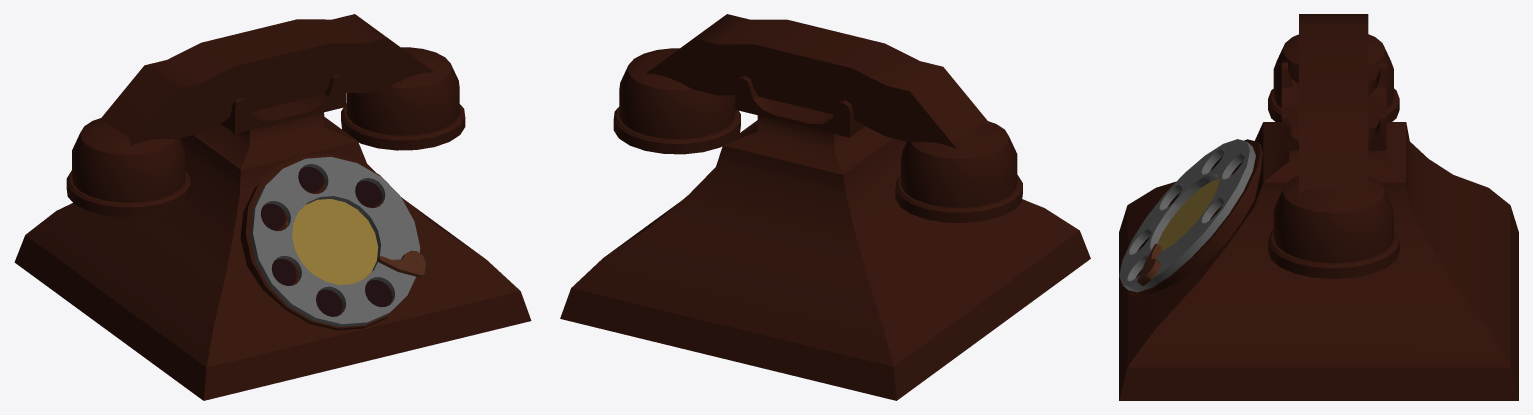
File: Telefono.obj
3 renders of one model, left to right at view 1: azimuth 30°, elevation 25°; view 2: azimuth 150°, elevation 25°; view 3: azimuth 270°, elevation 25°, orthographic. The views are drawn at different scales.
Parts seen in each view (by area): view 1: pCylinder19; view 2: pCylinder19; view 3: pCylinder19.
Boxes of the visible parts, box(x1,y1,x2,y2) form: pCylinder19: box(14, 14, 531, 400); pCylinder19: box(560, 14, 1090, 400); pCylinder19: box(1119, 14, 1518, 400).
Size of the model in its own units: 0.4667 by 0.2842 by 0.3999.
Materials: 4 (4 with a texture image).
